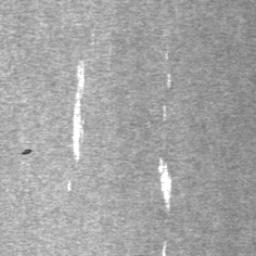White rust: (72, 59, 84, 166), (157, 156, 172, 211), (166, 72, 172, 89), (162, 241, 168, 256), (67, 179, 73, 193), (162, 104, 167, 120)
